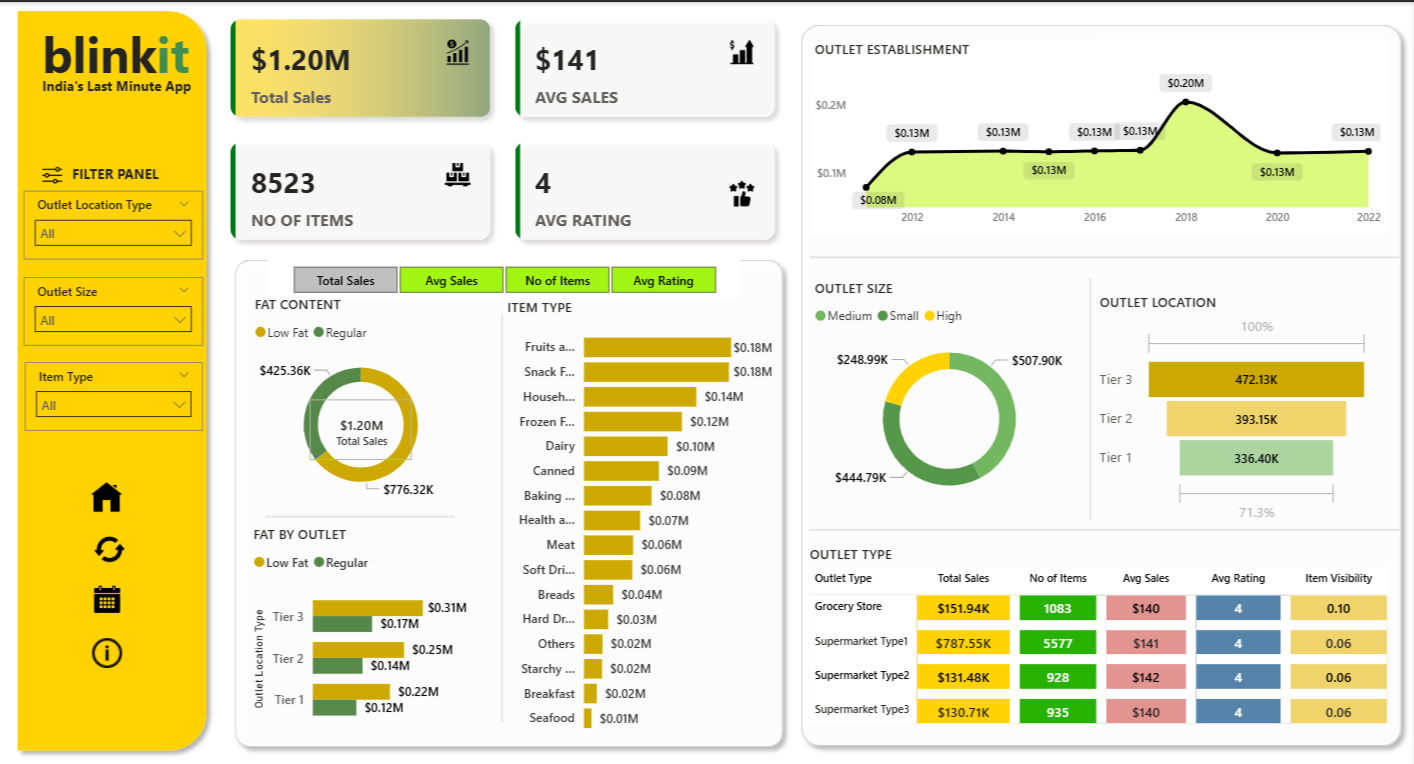

This screenshot's page, from the dashboard's own definition file:
{"tool":"powerbi","page":{"name":"Page 1","canvas":[1400,800],"ordinal":0},"visuals":[{"type":"shape","box":[785,13.3,611.7,731.7],"z":0},{"type":"shape","box":[10,0,205,750],"z":1000},{"type":"textbox","box":[19.1,13.6,195,110.4],"z":2000},{"type":"textbox","box":[38.2,69.5,175.9,36.8],"z":3000},{"type":"cardVisual","fields":{"Data":["BlinkIT Grocery Data.Total Sales","BlinkIT Grocery Data.Avg Sales","BlinkIT Grocery Data.No of Items","BlinkIT Grocery Data.Avg Rating"]},"box":[212.7,0,572.6,253.6],"z":4000},{"type":"shape","box":[225.6,245.6,560,500],"z":5000},{"type":"donutChart","title":"FAT CONTENT","fields":{"Y":["BlinkIT Grocery Data.Total Sales"],"Category":["BlinkIT Grocery Data.Item Fat Content"]},"box":[248.8,290,220,212.5],"z":6000},{"type":"slicer","fields":{"Values":["Metrics.Metrics"]},"box":[265.9,254.9,467.6,38.2],"z":7000},{"type":"cardVisual","fields":{"Data":["BlinkIT Grocery Data.Total Sales"]},"box":[302.7,388.6,111.8,70.9],"z":8000},{"type":"clusteredBarChart","title":"FAT BY OUTLET","fields":{"Y":["BlinkIT Grocery Data.Total Sales"],"Category":["BlinkIT Grocery Data.Outlet Location Type"],"Series":["BlinkIT Grocery Data.Item Fat Content"]},"box":[247.5,517.5,221.2,212.5],"z":9000},{"type":"shape","box":[265,491.2,186.2,36.2],"z":10000},{"type":"shape","box":[405,307.5,187.5,405],"z":11000},{"type":"barChart","title":"ITEM TYPE","fields":{"Y":["BlinkIT Grocery Data.Total Sales"],"Category":["BlinkIT Grocery Data.Item Type"]},"box":[499,291.8,272.7,441.7],"z":12000},{"type":"shape","box":[803.3,230,583.3,45],"z":13000},{"type":"donutChart","title":"OUTLET SIZE","fields":{"Y":["BlinkIT Grocery Data.Total Sales"],"Category":["BlinkIT Grocery Data.Outlet Size"]},"box":[803.3,273.3,276.7,233.3],"z":14000},{"type":"shape","box":[986.7,273.3,186.7,240],"z":15000},{"type":"funnel","title":"OUTLET LOCATION","fields":{"Y":["Sum(BlinkIT Grocery Data.Sales)"],"Category":["BlinkIT Grocery Data.Outlet Location Type"]},"box":[1085,286.7,276.7,233.3],"z":16000},{"type":"shape","box":[803.3,500,583.3,45],"z":17000},{"type":"pivotTable","title":"OUTLET TYPE","fields":{"Rows":["BlinkIT Grocery Data.Outlet Type"],"Values":["BlinkIT Grocery Data.Total Sales","BlinkIT Grocery Data.No of Items","BlinkIT Grocery Data.Avg Sales","BlinkIT Grocery Data.Avg Rating","Avg(BlinkIT Grocery Data.Item Visibility)"]},"box":[797.5,536.2,582.5,185],"z":18000},{"type":"lineChart","title":"OUTLET ESTABLISHMENT","fields":{"Y":["BlinkIT Grocery Data.Total Sales"],"Category":["BlinkIT Grocery Data.Outlet Establishment Year"]},"box":[803.3,36.7,570,193.3],"z":19000},{"type":"slicer","fields":{"Values":["BlinkIT Grocery Data.Outlet Location Type"]},"box":[24.5,186.8,177.2,68.2],"z":20000},{"type":"slicer","fields":{"Values":["BlinkIT Grocery Data.Outlet Size"]},"box":[24.5,272.7,177.2,68.2],"z":21000},{"type":"slicer","fields":{"Values":["BlinkIT Grocery Data.Item Type"]},"box":[25.9,355.8,175.9,68.2],"z":22000},{"type":"textbox","box":[68.2,155.4,98.2,31.4],"z":23000},{"type":"image","box":[38.2,155.4,30,31.4],"z":24000},{"type":"image","box":[84.5,470.4,46.4,40.9],"z":25000},{"type":"image","box":[87.3,572.6,39.5,38.2],"z":26000},{"type":"image","box":[87.3,624.4,39.5,39.5],"z":27000},{"type":"image","box":[87.3,522.2,43.6,39.5],"z":28000}]}

Visuals, with their boxes on the page's 1400x800 design canvas (x1, y1, x2, y2). These are canvas units, not pixel positions in the 1414x764 screenshot, which may show the page scaled, cropped or inside an application window:
shape: box=[785, 13, 1397, 745]
shape: box=[10, 0, 215, 750]
textbox: box=[19, 14, 214, 124]
textbox: box=[38, 70, 214, 106]
cardVisual - BlinkIT Grocery Data.Total Sales x BlinkIT Grocery Data.Avg Sales: box=[213, 0, 785, 254]
shape: box=[226, 246, 786, 746]
"FAT CONTENT" donutChart: box=[249, 290, 469, 502]
slicer - Metrics.Metrics: box=[266, 255, 734, 293]
cardVisual - BlinkIT Grocery Data.Total Sales: box=[303, 389, 414, 460]
"FAT BY OUTLET" clusteredBarChart: box=[248, 518, 469, 730]
shape: box=[265, 491, 451, 527]
shape: box=[405, 308, 592, 712]
"ITEM TYPE" barChart: box=[499, 292, 772, 734]
shape: box=[803, 230, 1387, 275]
"OUTLET SIZE" donutChart: box=[803, 273, 1080, 507]
shape: box=[987, 273, 1173, 513]
"OUTLET LOCATION" funnel: box=[1085, 287, 1362, 520]
shape: box=[803, 500, 1387, 545]
"OUTLET TYPE" pivotTable: box=[798, 536, 1380, 721]
"OUTLET ESTABLISHMENT" lineChart: box=[803, 37, 1373, 230]
slicer - BlinkIT Grocery Data.Outlet Location Type: box=[24, 187, 202, 255]
slicer - BlinkIT Grocery Data.Outlet Size: box=[24, 273, 202, 341]
slicer - BlinkIT Grocery Data.Item Type: box=[26, 356, 202, 424]
textbox: box=[68, 155, 166, 187]
image: box=[38, 155, 68, 187]
image: box=[84, 470, 131, 511]
image: box=[87, 573, 127, 611]
image: box=[87, 624, 127, 664]
image: box=[87, 522, 131, 562]
